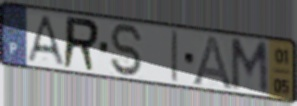A: (189, 33, 235, 92), (25, 13, 67, 68)
I: (170, 29, 180, 85)
M: (229, 37, 271, 97)
R: (60, 14, 102, 74)
S: (108, 22, 146, 79)
